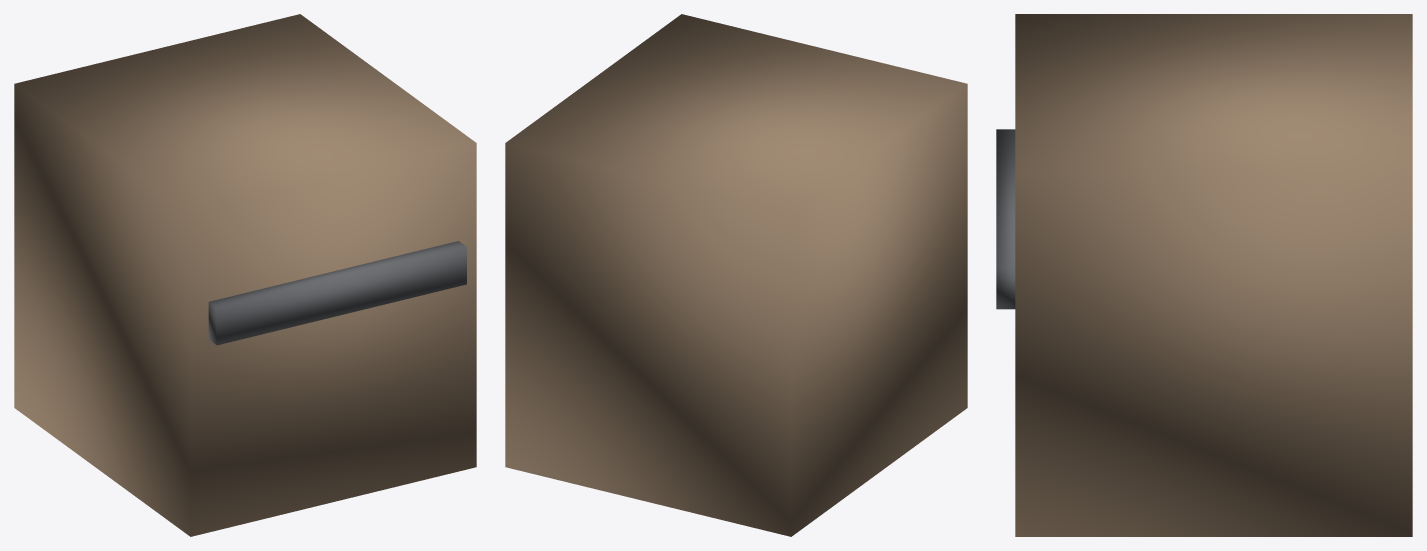
The model's file is nightstand__deep.glb.
3 views of the same model, side by side, from view 1: azimuth 30°, elevation 25°; view 2: azimuth 150°, elevation 25°; view 3: azimuth 270°, elevation 25° (orthographic). The views are drawn at different scales.
Parts seen in each view (by area): view 1: world; view 2: world; view 3: world.
Part boxes in pixels (x1=…): world: x1=14, y1=14, x2=476, y2=536; world: x1=505, y1=14, x2=967, y2=536; world: x1=996, y1=14, x2=1412, y2=536.
Bounding box in the file's own units: 0.48 × 0.52 × 0.5368.
